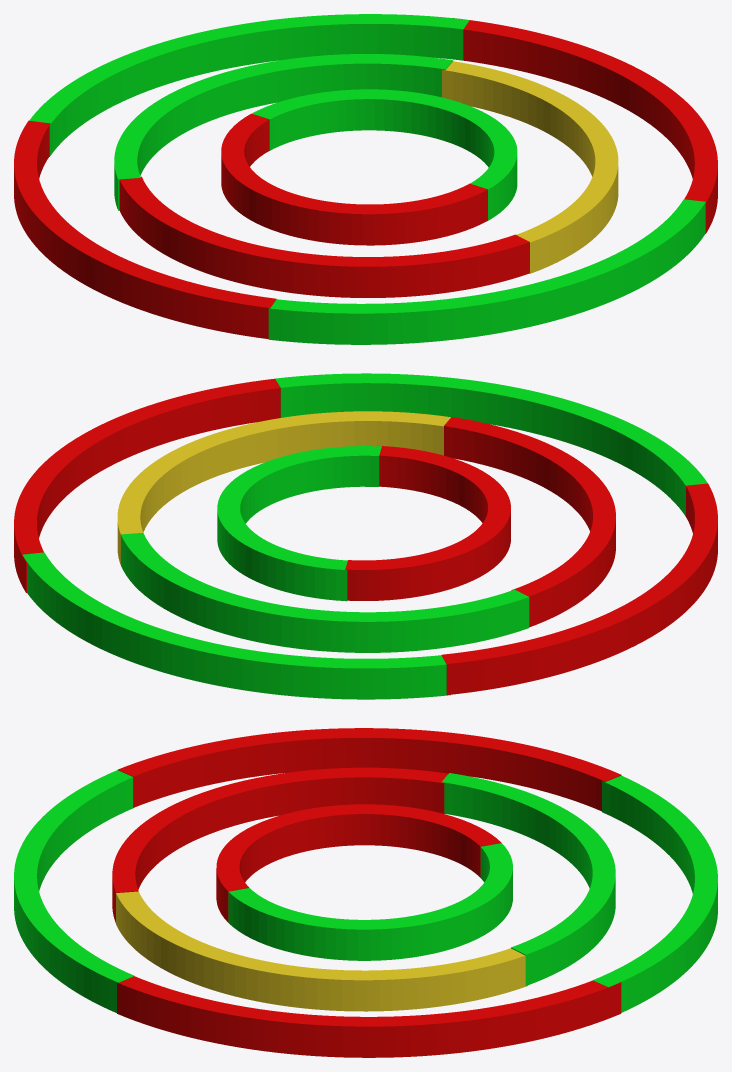
Rendered from 1LevelPlatform.fbx.
3 renders of one model, top to bottom at view 1: azimuth 30°, elevation 25°; view 2: azimuth 150°, elevation 25°; view 3: azimuth 270°, elevation 25°, orthographic.
Visible parts, largest first — view 1: ThirdCircle4, ThirdCircle3, SecondCircle3, SecondCircle1, ThirdCircle2, FirstCircle1, ThirdCircle1, SecondCircle2, FirstCircle2; view 2: ThirdCircle3, SecondCircle1, ThirdCircle4, ThirdCircle2, SecondCircle2, ThirdCircle1, FirstCircle1, FirstCircle2, SecondCircle3; view 3: ThirdCircle1, ThirdCircle2, SecondCircle2, SecondCircle3, FirstCircle2, SecondCircle1, FirstCircle1, ThirdCircle4, ThirdCircle3.
Part boxes in pixels (x1,y1,x2,y2): ThirdCircle4: [268, 199, 705, 344]; ThirdCircle3: [29, 14, 469, 156]; SecondCircle3: [119, 176, 529, 297]; SecondCircle1: [114, 54, 453, 210]; ThirdCircle2: [14, 120, 276, 338]; FirstCircle1: [221, 113, 487, 245]; ThirdCircle1: [453, 18, 717, 233]; SecondCircle2: [442, 61, 618, 273]; FirstCircle2: [252, 89, 517, 220]; ThirdCircle3: [22, 552, 450, 699]; SecondCircle1: [121, 532, 529, 652]; ThirdCircle4: [275, 373, 707, 516]; ThirdCircle2: [441, 483, 717, 694]; SecondCircle2: [117, 411, 450, 564]; ThirdCircle1: [14, 378, 280, 592]; FirstCircle1: [345, 446, 510, 600]; FirstCircle2: [217, 446, 381, 601]; SecondCircle3: [444, 417, 615, 627]; ThirdCircle1: [117, 976, 621, 1057]; ThirdCircle2: [118, 728, 621, 811]; SecondCircle2: [116, 891, 528, 1011]; SecondCircle3: [112, 767, 448, 922]; FirstCircle2: [228, 843, 512, 960]; SecondCircle1: [442, 773, 615, 985]; FirstCircle1: [216, 804, 501, 922]; ThirdCircle4: [14, 770, 134, 1012]; ThirdCircle3: [593, 775, 717, 1012].
Size of the model in its own units: 850 by 57.84 by 849.
